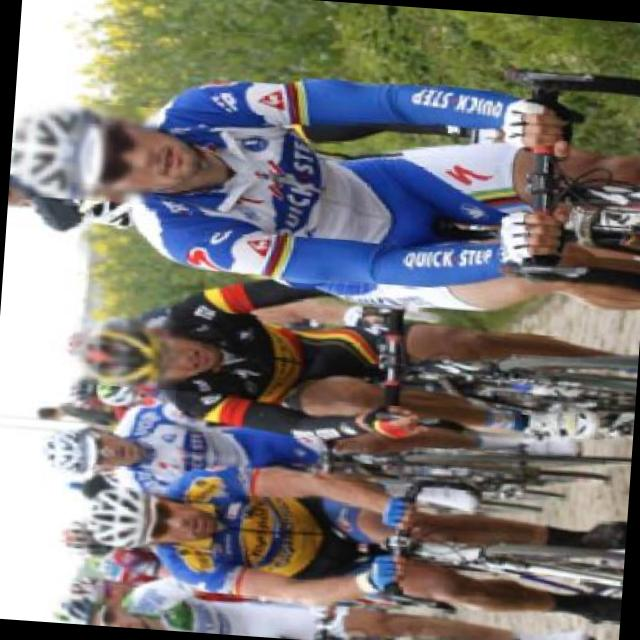With Helmet: (12, 96, 162, 204), (69, 310, 192, 392), (79, 479, 175, 552), (39, 419, 120, 480), (46, 590, 138, 628)
